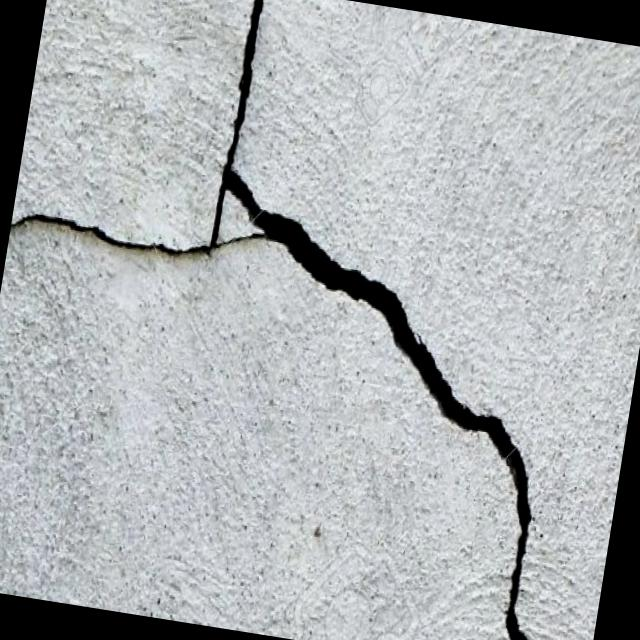crack: (237, 209, 532, 466), (467, 429, 594, 640), (204, 0, 304, 264), (9, 200, 208, 274)
